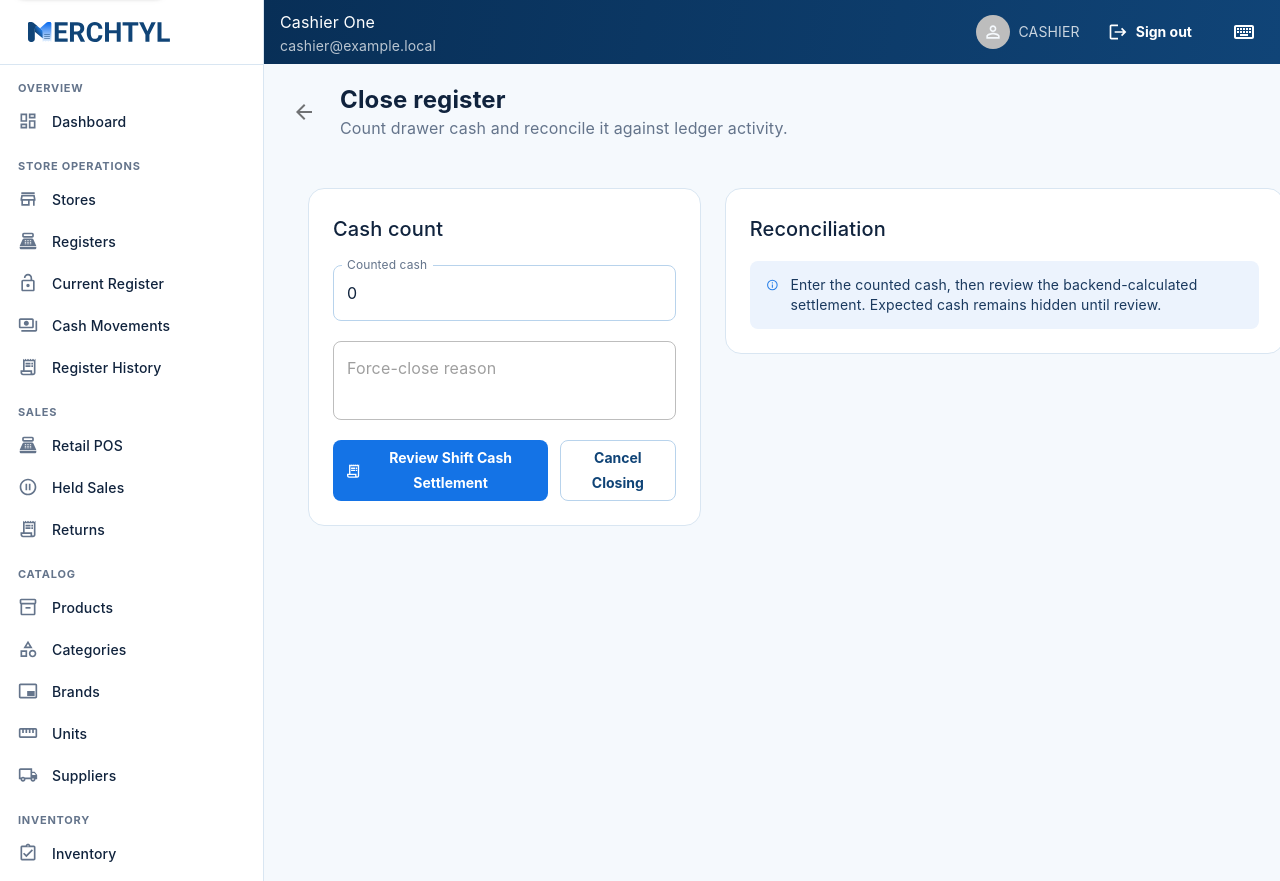
Register session pages › cancels closing and returns the same session to the current register
Click the button "Cancel Closing" at {"x": 618, "y": 470}, box [560,440,676,501]
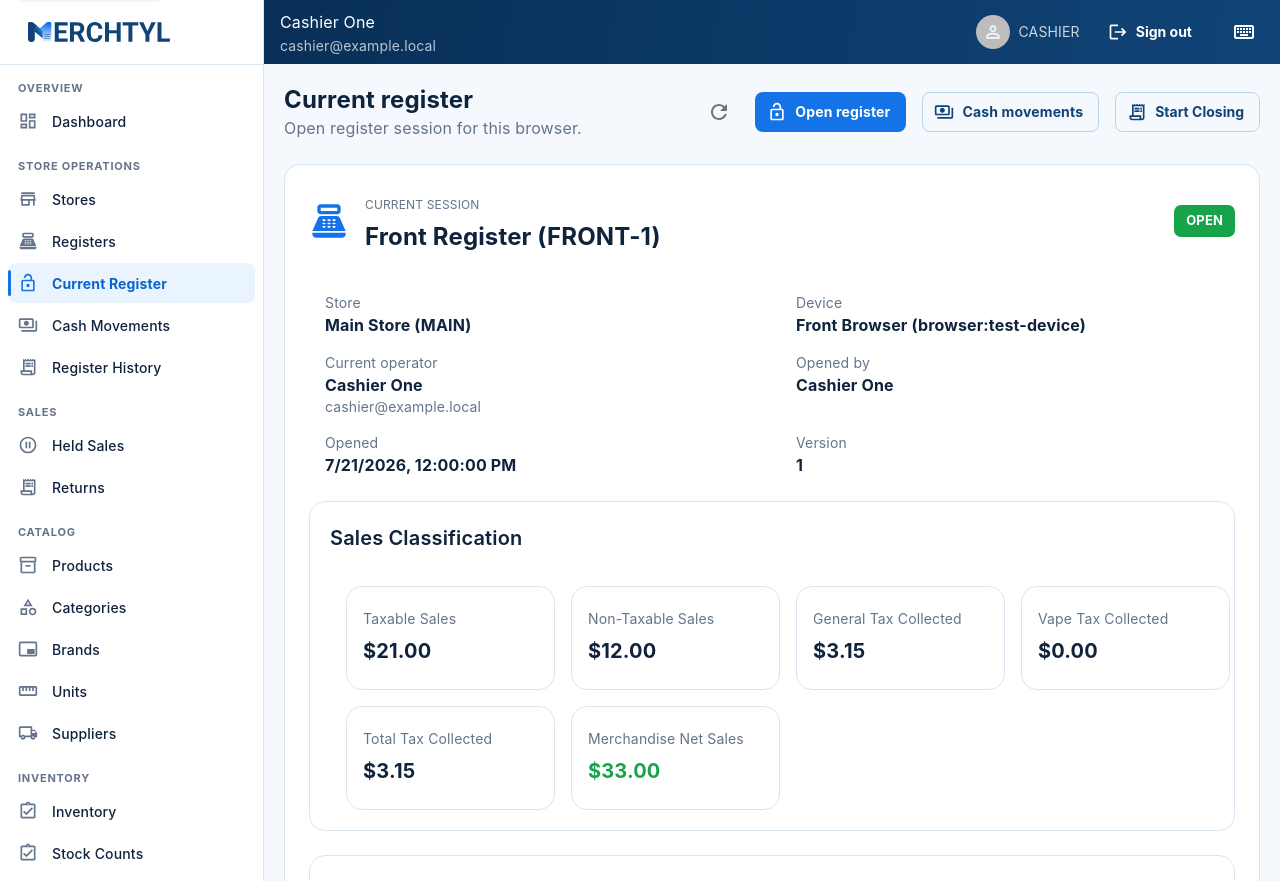
Result: the heading "Current register" is shown at [284,85,473,114]
